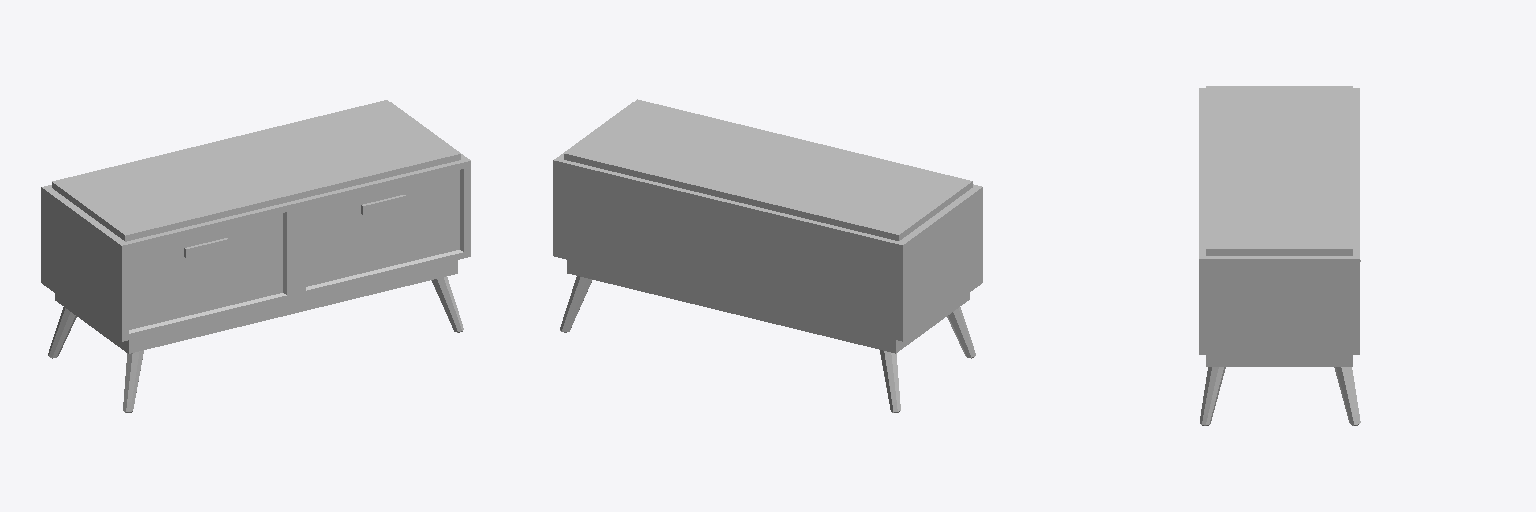
Rendered from Drawer_1.obj.
3 views of the same model, side by side, from view 1: azimuth 30°, elevation 25°; view 2: azimuth 150°, elevation 25°; view 3: azimuth 270°, elevation 25° (orthographic).
Parts seen in each view (by area): view 1: Drawer_1; view 2: Drawer_1; view 3: Drawer_1.
Boxes of the visible parts, box(x1,y1,x2,y2) form: Drawer_1: box(41, 100, 470, 412); Drawer_1: box(553, 99, 982, 412); Drawer_1: box(1199, 86, 1360, 425).
Bounding box in the file's own units: 2.79 × 1.35 × 1.12.